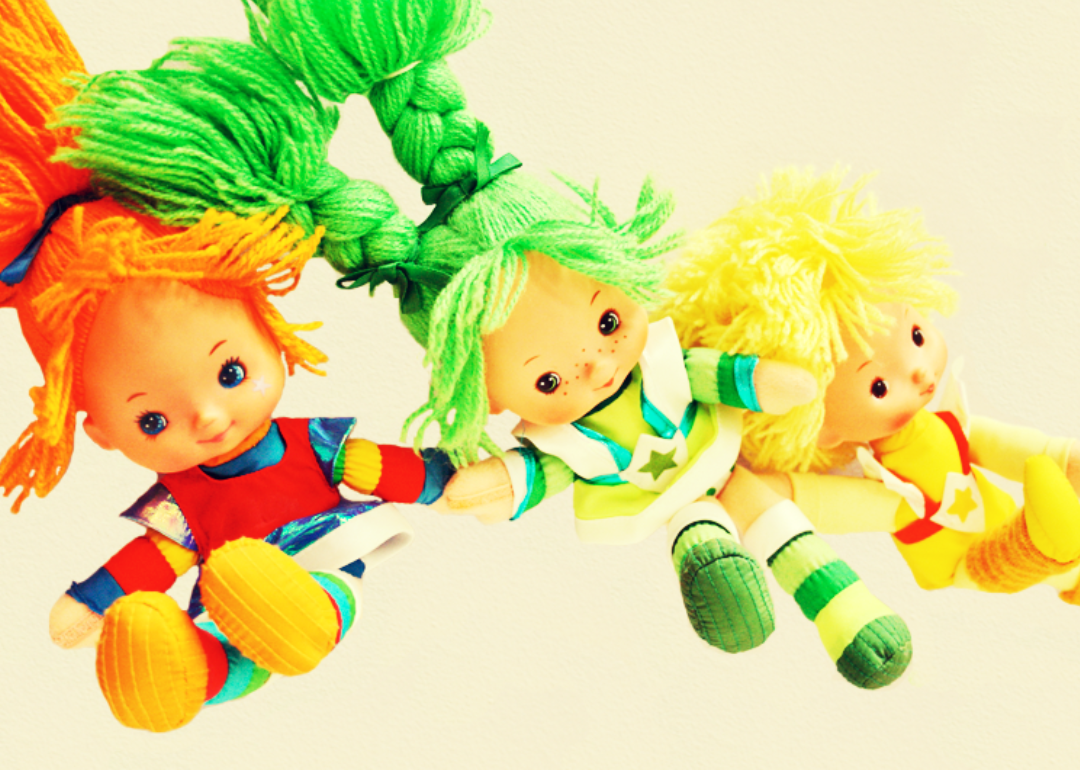toy: (13, 4, 352, 715)
